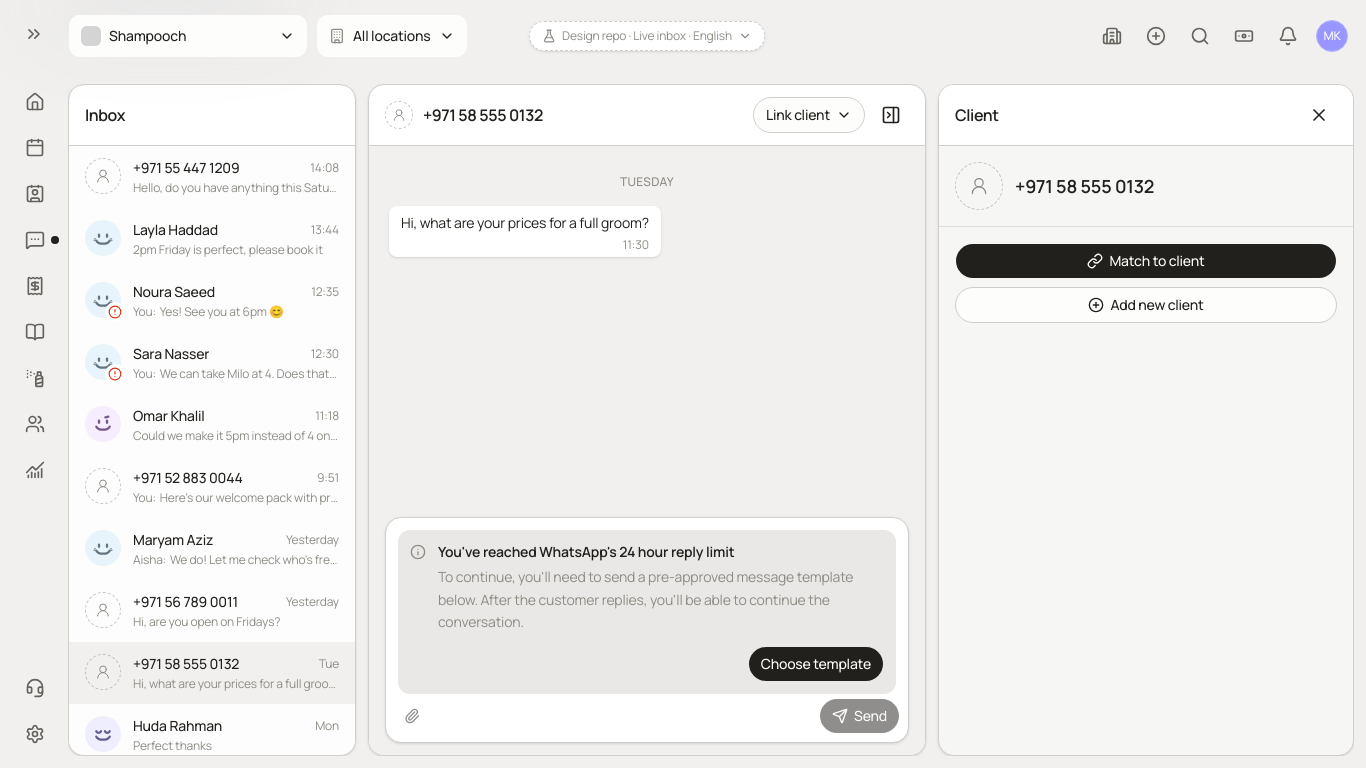
Test: Inbox Phase 0 — templates and failed send › sends the no-blank template on an unmatched chat, and still blocks a blank
What coordinates should you click on to do the following:
click the button "Choose template"
I would click on:
 (816, 664)
Its box is [748,646,884,682].
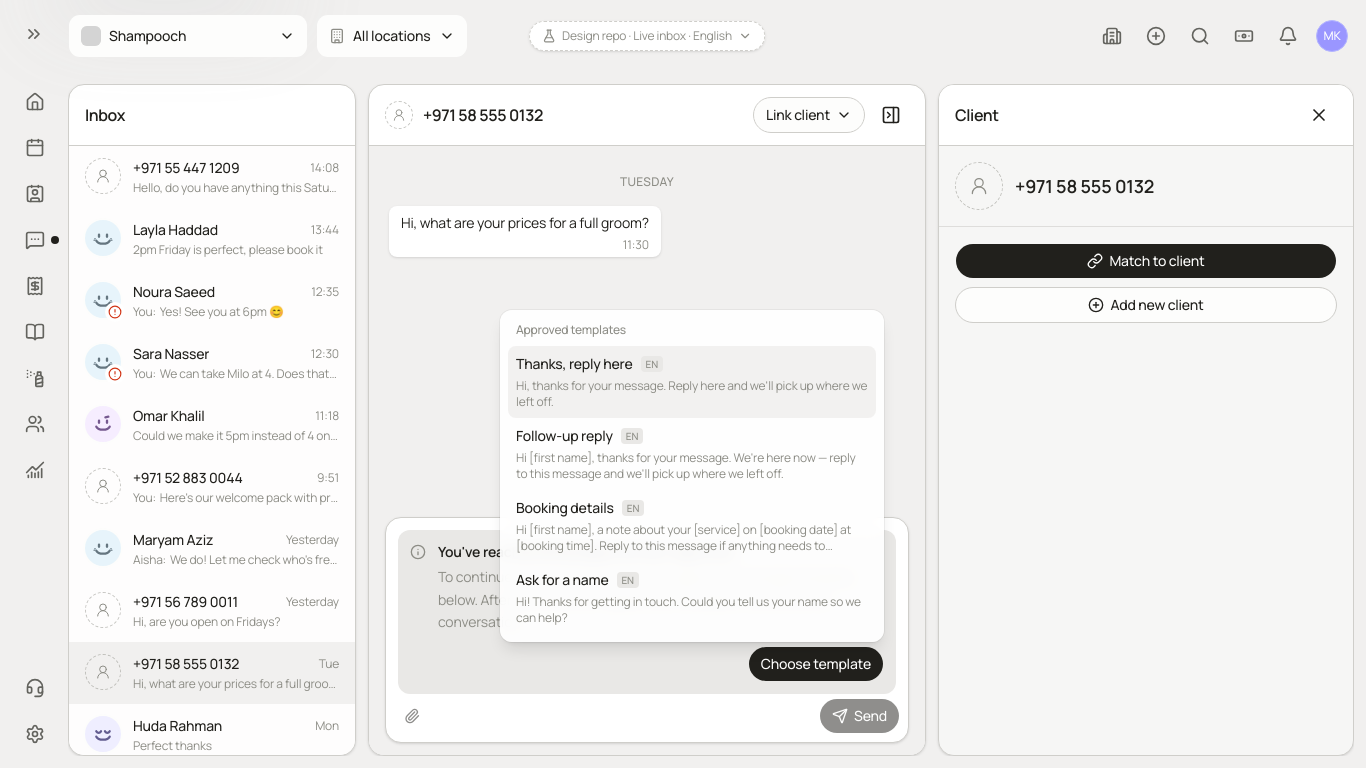
What coordinates should you click on to do the following:
click the button "Follow-up reply"
I would click on:
 (692, 454)
Its box is [508,418,876,490].
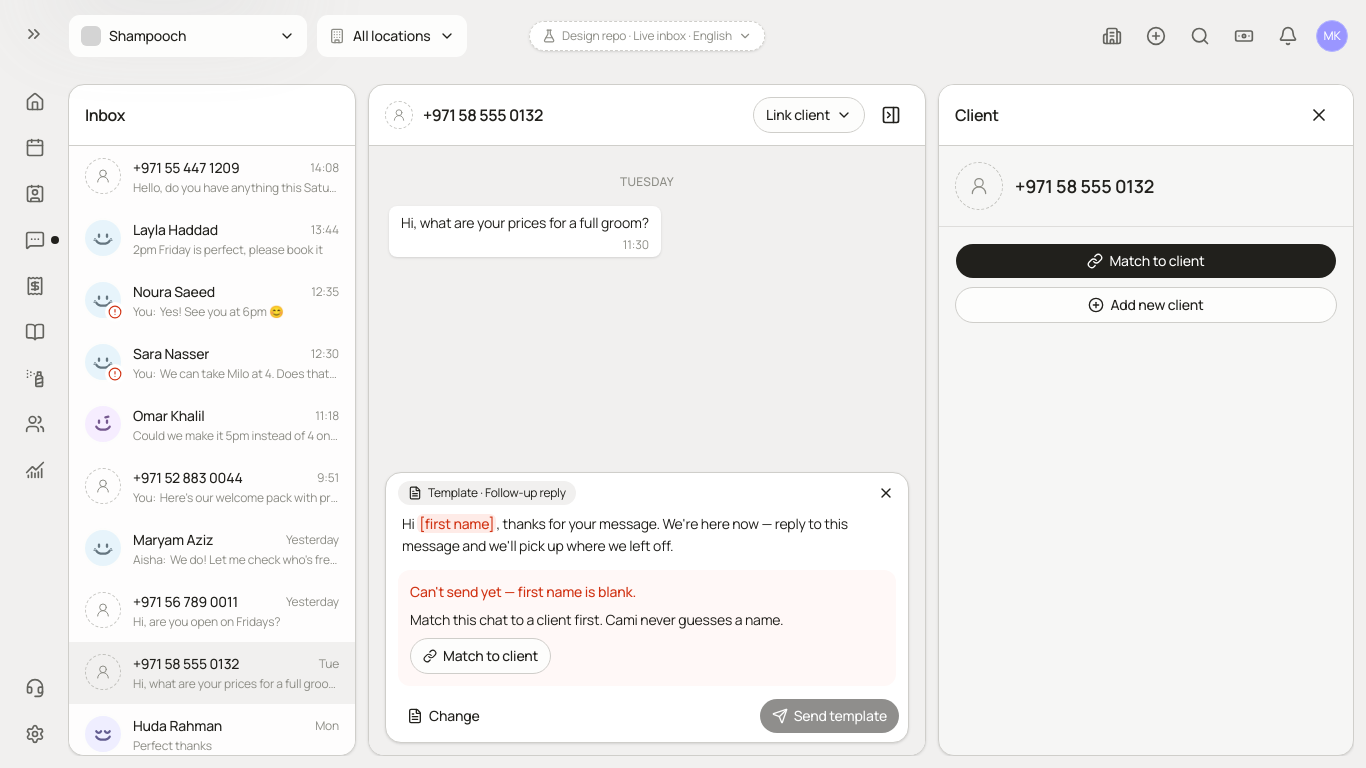
Now the button "Send template" is disabled, box [759,698,900,734]
Now the text "Match this chat to a client first. Cami never guesses a name." is shown, box [410,610,783,629]
What coordinates should you click on to do the following:
click the button "Change"
I would click on:
 (443, 716)
Its box is [394,698,492,734].
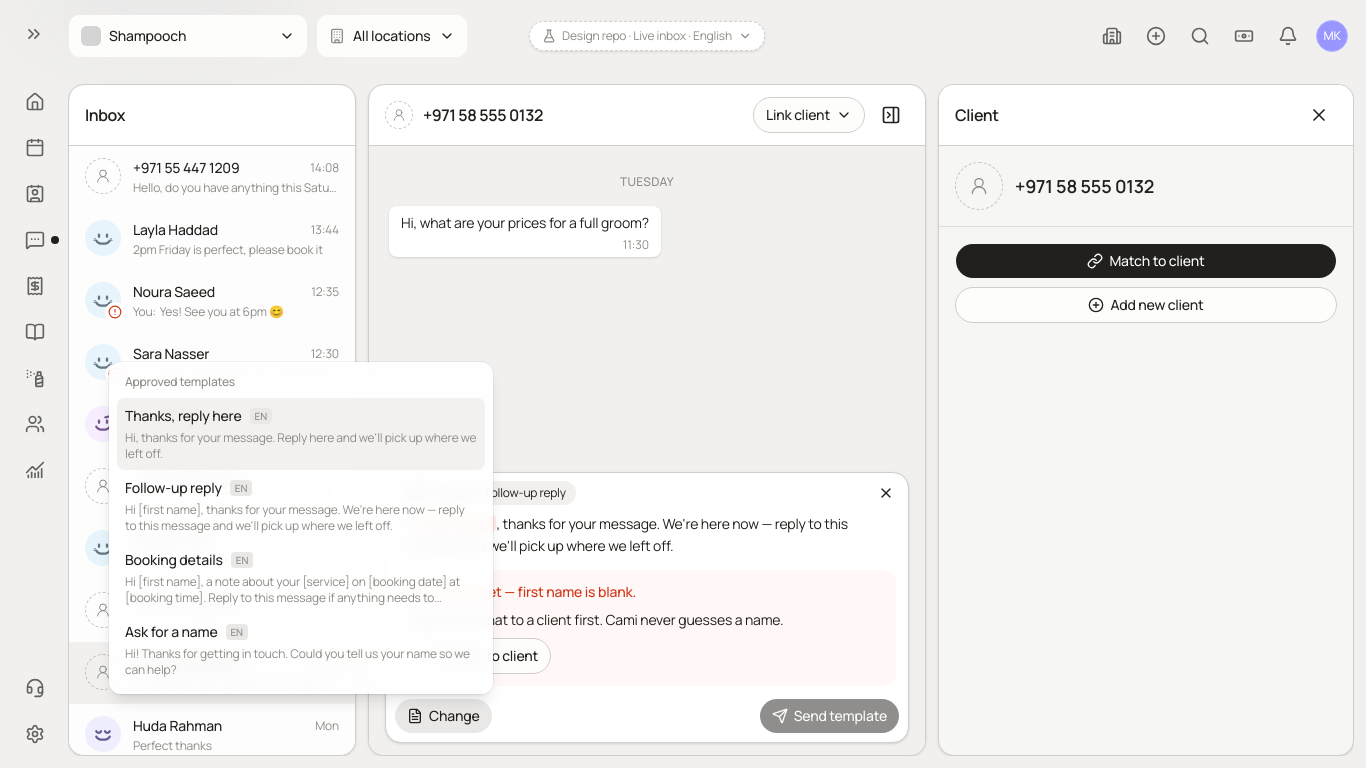
What coordinates should you click on to do the following:
click the button "Thanks, reply here"
I would click on:
 (301, 434)
Its box is [117,398,485,470].
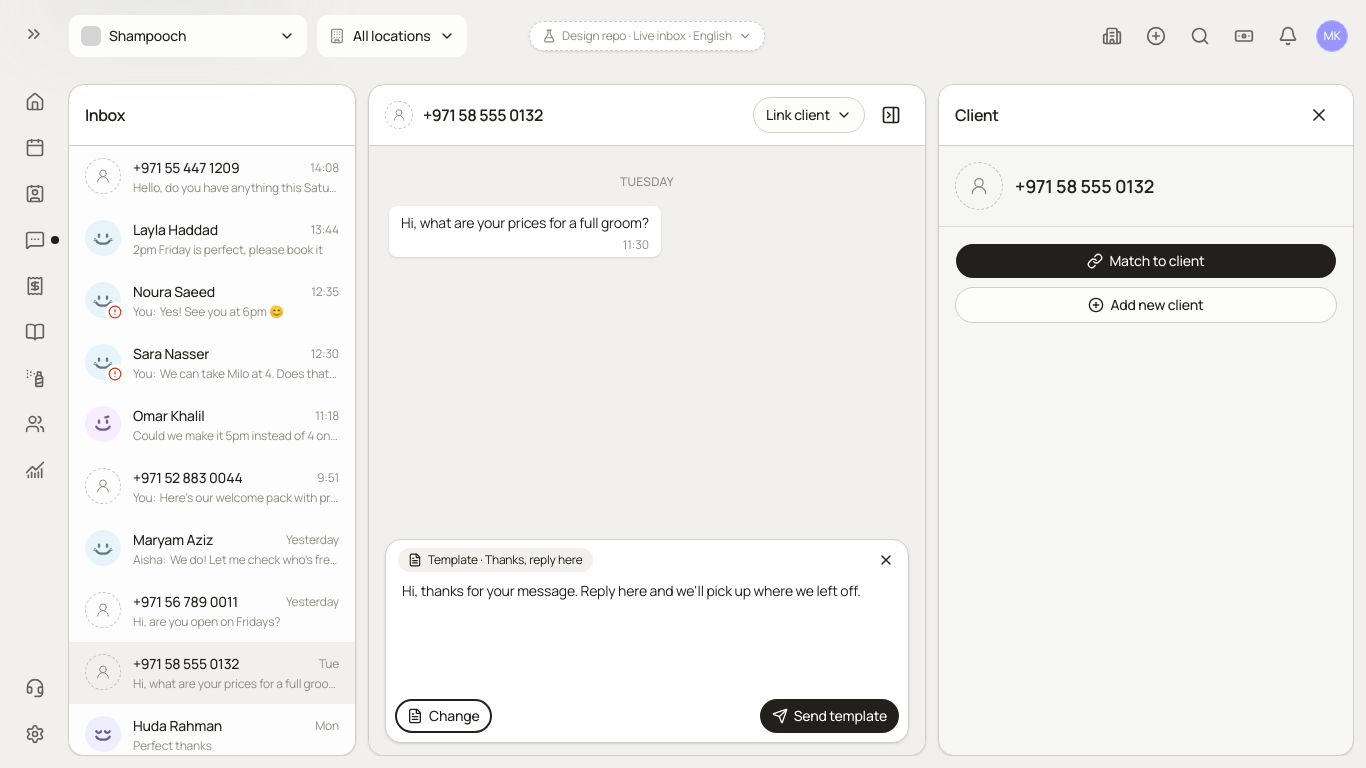
Now the button "Send template" is enabled
What coordinates should you click on to do the following:
click the button "Send template"
I would click on:
 (829, 716)
Its box is [759,698,900,734].
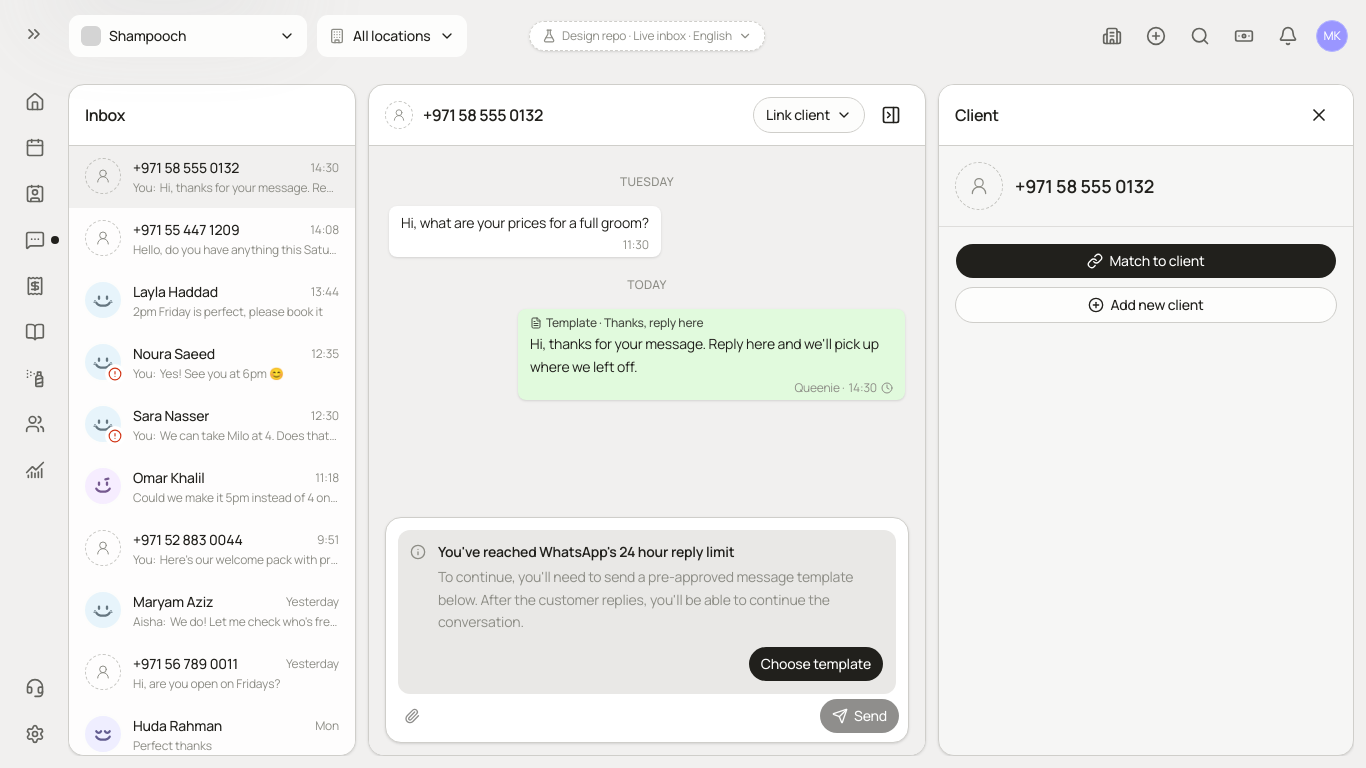
Now the text "Hi, thanks for your message. Reply here and we'll pick up where we left off." below "Template · Thanks, reply here" is shown, box [530,334,881,376]
